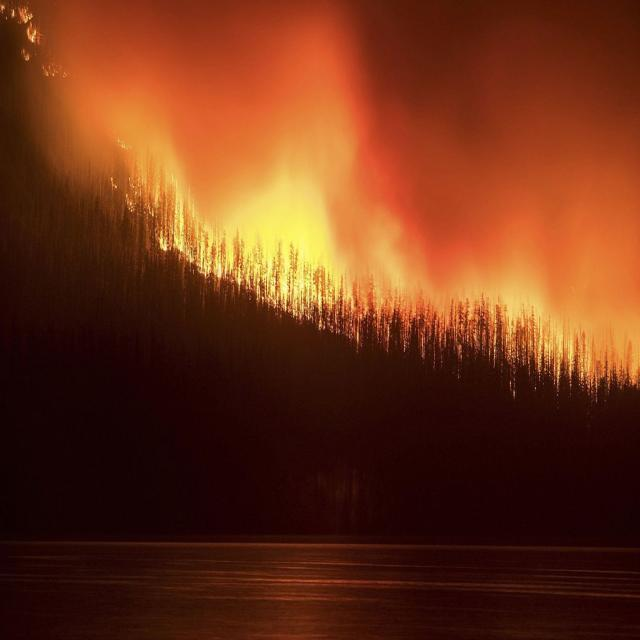Smoke: (0, 2, 640, 396)
